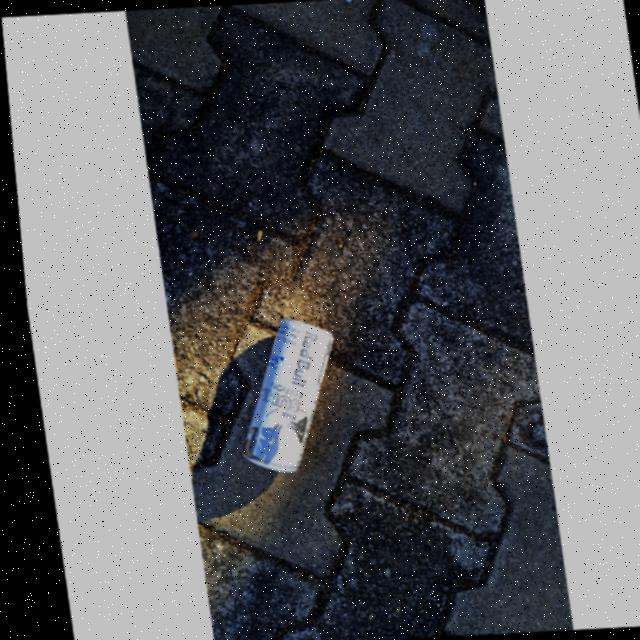Redbull Summer Edition: (208, 318, 344, 476)
